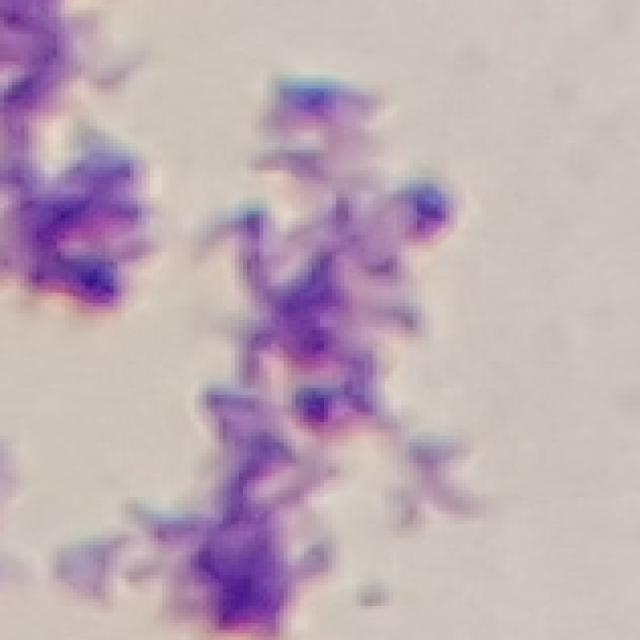non-sperm: (173, 78, 460, 639), (0, 0, 150, 313)
